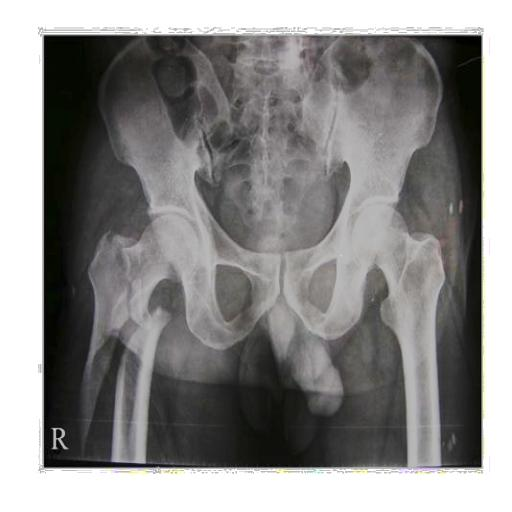intertrochanteric: (112, 214, 199, 330), (88, 230, 130, 322)
normal: (352, 204, 445, 379)
subtrochanteric: (111, 307, 171, 463), (76, 312, 124, 459)
